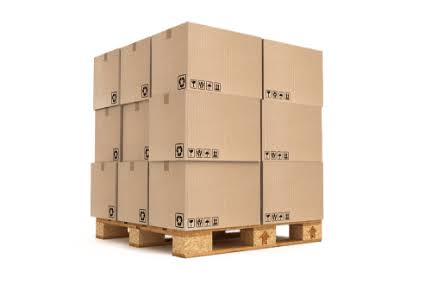box: (187, 21, 264, 99), (186, 93, 262, 162), (185, 163, 262, 229), (262, 37, 323, 105), (261, 99, 323, 162), (262, 163, 325, 221), (147, 163, 185, 233), (152, 21, 186, 95), (150, 94, 186, 163), (120, 29, 151, 103), (117, 161, 148, 228), (120, 101, 149, 162), (92, 104, 121, 164), (93, 46, 120, 109), (89, 162, 117, 221)
pallet: (93, 216, 324, 259)
